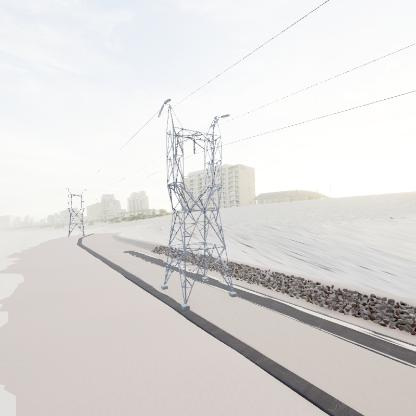tower: (155, 101, 241, 311), (64, 186, 88, 238)
